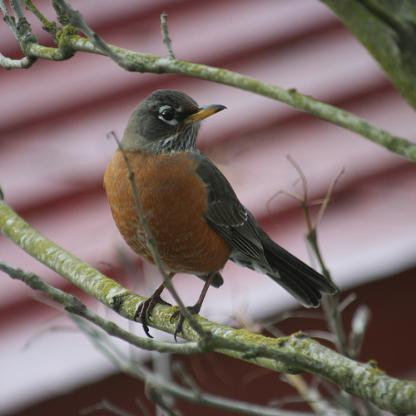bird: (102, 87, 338, 342)
